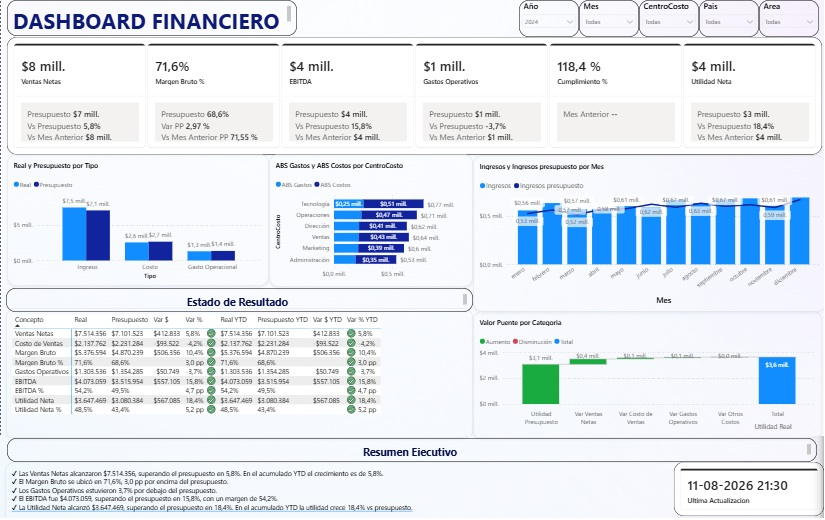

The page's visual inventory and layout, read from the dashboard file:
{"tool":"powerbi","page":{"name":"Página 1","canvas":[1650,1050],"ordinal":0},"visuals":[{"type":"cardVisual","fields":{"Data":["FactFinanzasRaw.Ventas Netas Real","FactFinanzasRaw.Margen Bruto % Real","FactFinanzasRaw.EBITDA Real","FactFinanzasRaw.Gastos Operativos Real","Medidas.Cumplimiento %","FactFinanzasRaw.Utilidad Neta Real"]},"box":[11.7,73.3,1630,235],"z":0},{"type":"clusteredColumnChart","fields":{"Category":["DimCuentas.Tipo"],"Y":["Medidas.ABS Monto Real","Medidas.ABS Monto Presupuesto"]},"box":[11,307,469,266],"z":1000},{"type":"lineClusteredColumnComboChart","fields":{"Category":["Calendario.Mes"],"Y":["Medidas.Ingresos"],"Y2":["Medidas.Ingresos presupuesto"]},"box":[480,307,705,266],"z":2000},{"type":"slicer","fields":{"Values":["Calendario.Mes"]},"box":[1155,0,120,74.3],"z":3000},{"type":"slicer","fields":{"Values":["DimCentroCosto.CentroCosto"]},"box":[1275,0,120,74.3],"z":4000},{"type":"slicer","fields":{"Values":["DimCentroCosto.Pais"]},"box":[1395,0,120,74.3],"z":5000},{"type":"slicer","fields":{"Values":["DimCentroCosto.Area"]},"box":[1515,0,120,74.3],"z":6000},{"type":"barChart","fields":{"Category":["DimCentroCosto.CentroCosto"],"Y":["Medidas.ABS Gastos","Medidas.ABS Costos"]},"box":[1186,308,456,266],"z":7000},{"type":"waterfallChart","fields":{"Category":["PuenteUtilidad.Categoria"],"Y":["FactFinanzasRaw.Valor Puente"]},"box":[861.4,621.4,780,258],"z":8000},{"type":"pivotTable","fields":{"Rows":["Conceptos.Concepto"],"Values":["FactFinanzasRaw.Valor Real","FactFinanzasRaw.Valor Presupuesto","FactFinanzasRaw.Valor Var $","FactFinanzasRaw.Valor Var %","FactFinanzasRaw.Valor Real YTD","FactFinanzasRaw.Valor Presupuesto YTD","FactFinanzasRaw.Valor Var $ YTD","FactFinanzasRaw.Valor Var % YTD"]},"box":[10,615,850,265],"z":9000},{"type":"textbox","box":[1501.4,837.1,98,30],"z":10000},{"type":"cardVisual","fields":{"Data":["Min(UltimaActualizacion.UltimaActualizacion)"]},"box":[1350,928.3,300,108.3],"z":11000},{"type":"textbox","box":[12,0,580,72],"z":12000},{"type":"slicer","fields":{"Values":["Calendario.Año"]},"box":[1035,0,120,74.3],"z":13000},{"type":"textbox","box":[10,575,850,48.3],"z":14000},{"type":"textbox","box":[12.5,927.5,1632.5,132.5],"z":15000},{"type":"textbox","box":[15,880,1620,48],"z":16002}]}

Visuals, with their boxes in screenshot pixels (x1, y1, x2, y2), scaled from the page's 1650x1050 canvas onto the 825x520 screenshot:
cardVisual - FactFinanzasRaw.Ventas Netas Real x FactFinanzasRaw.Margen Bruto % Real: rect(6, 36, 821, 153)
clusteredColumnChart - DimCuentas.Tipo x Medidas.ABS Monto Real: rect(6, 152, 240, 284)
lineClusteredColumnComboChart - Calendario.Mes x Medidas.Ingresos: rect(240, 152, 592, 284)
slicer - Calendario.Mes: rect(578, 0, 638, 37)
slicer - DimCentroCosto.CentroCosto: rect(638, 0, 698, 37)
slicer - DimCentroCosto.Pais: rect(698, 0, 758, 37)
slicer - DimCentroCosto.Area: rect(758, 0, 818, 37)
barChart - DimCentroCosto.CentroCosto x Medidas.ABS Gastos: rect(593, 153, 821, 284)
waterfallChart - PuenteUtilidad.Categoria x FactFinanzasRaw.Valor Puente: rect(431, 308, 821, 436)
pivotTable - Conceptos.Concepto x FactFinanzasRaw.Valor Real: rect(5, 305, 430, 436)
textbox: rect(751, 415, 800, 429)
cardVisual - Min(UltimaActualizacion.UltimaActualizacion): rect(675, 460, 824, 513)
textbox: rect(6, 0, 296, 36)
slicer - Calendario.Año: rect(518, 0, 578, 37)
textbox: rect(5, 285, 430, 309)
textbox: rect(6, 459, 822, 519)
textbox: rect(8, 436, 818, 460)
